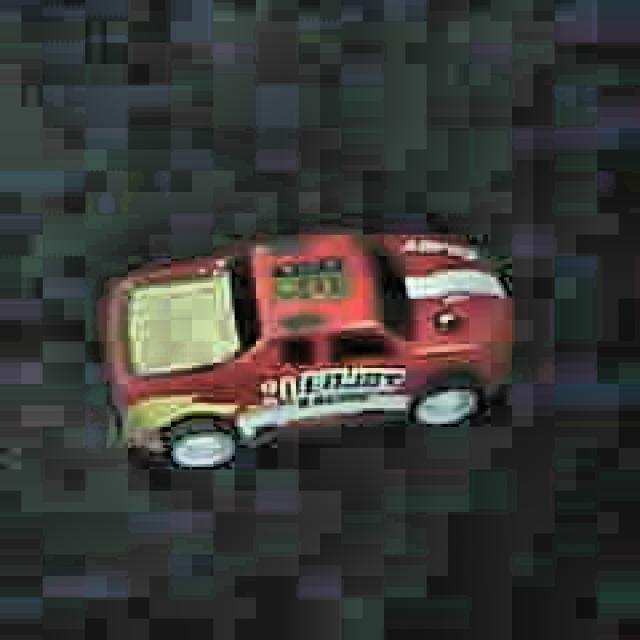car: (102, 222, 518, 482)
